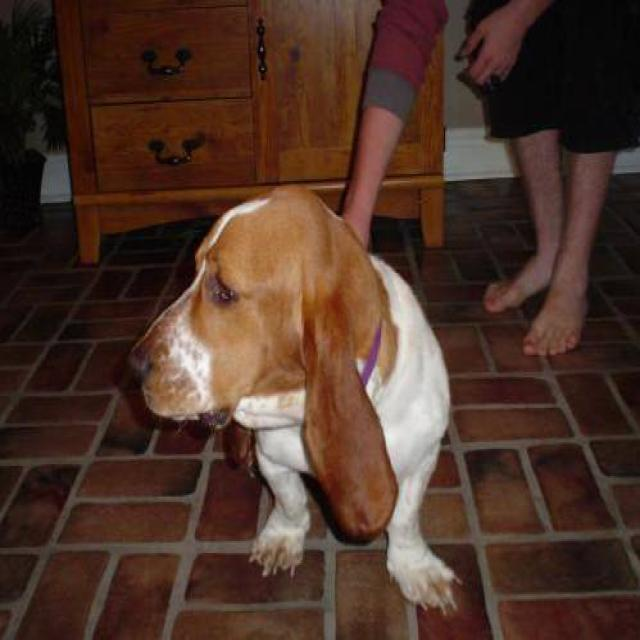Dog: (124, 170, 415, 556)
